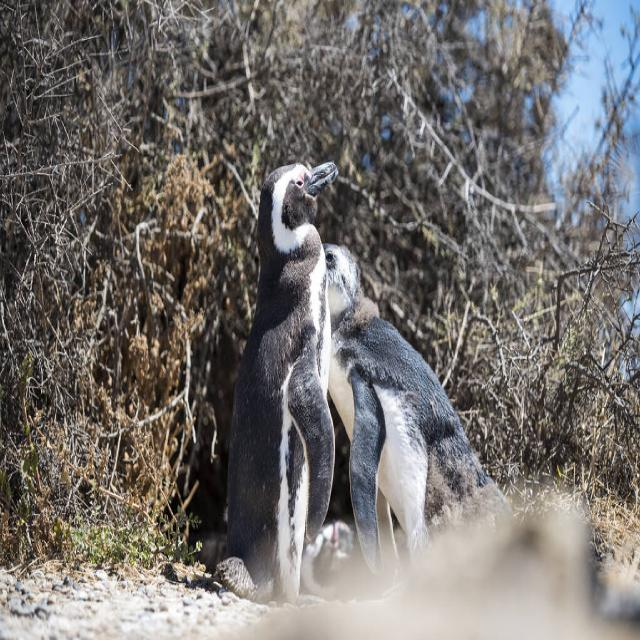Penguins: (312, 234, 515, 592), (215, 138, 344, 598)
